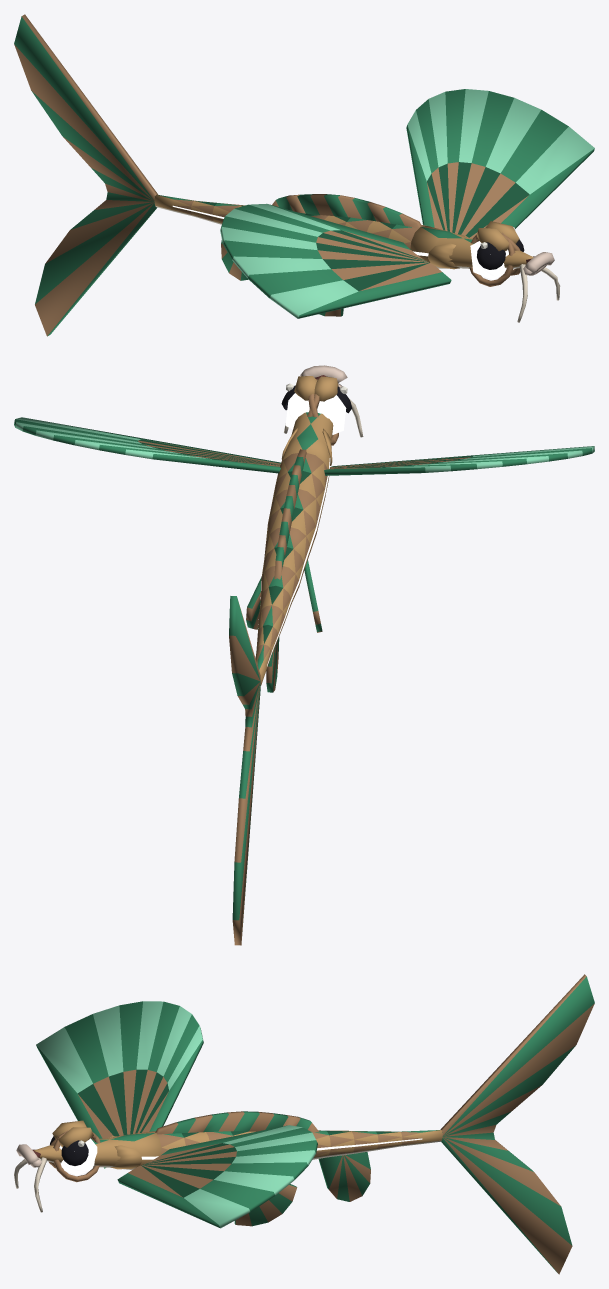
File: carp-skimmer.glb
3 views of the same model, one above another, from view 1: azimuth 30°, elevation 25°; view 2: azimuth 150°, elevation 25°; view 3: azimuth 270°, elevation 25° (orthographic). The views are drawn at different scales.
Parts seen in each view (by area): view 1: glide_fin_l, glide_fin_r, wag_body_2, carp_head, wag_body_0, wag_body_1, blink_eye_r, pulse_gill_r; view 2: wag_body_0, wag_body_2, glide_fin_l, wag_body_1, glide_fin_r, carp_head, blink_eye_r, blink_eye_l; view 3: glide_fin_r, wag_body_2, glide_fin_l, wag_body_1, wag_body_0, carp_head, blink_eye_l, pulse_gill_l.
Part boxes in pixels (bbox=[...]): glide_fin_l: bbox=[406, 89, 594, 238]; glide_fin_r: bbox=[220, 203, 451, 318]; wag_body_2: bbox=[14, 14, 158, 336]; carp_head: bbox=[410, 221, 554, 286]; wag_body_0: bbox=[297, 194, 426, 316]; wag_body_1: bbox=[154, 194, 305, 280]; blink_eye_r: bbox=[470, 241, 514, 279]; pulse_gill_r: bbox=[428, 243, 459, 269]; wag_body_0: bbox=[246, 449, 329, 632]; wag_body_2: bbox=[229, 596, 260, 945]; glide_fin_l: bbox=[14, 417, 280, 473]; wag_body_1: bbox=[255, 535, 304, 692]; glide_fin_r: bbox=[324, 446, 594, 475]; carp_head: bbox=[280, 365, 347, 469]; blink_eye_r: bbox=[319, 386, 351, 434]; blink_eye_l: bbox=[281, 383, 323, 429]; glide_fin_r: bbox=[36, 1001, 203, 1168]; wag_body_2: bbox=[440, 974, 594, 1274]; glide_fin_l: bbox=[117, 1125, 317, 1228]; wag_body_1: bbox=[283, 1115, 442, 1201]; wag_body_0: bbox=[152, 1111, 297, 1226]; carp_head: bbox=[16, 1120, 161, 1182]; blink_eye_l: bbox=[59, 1138, 97, 1175]; pulse_gill_l: bbox=[111, 1145, 142, 1169].
Size of the model in its own units: 0.6194 by 0.4453 by 0.7989.
